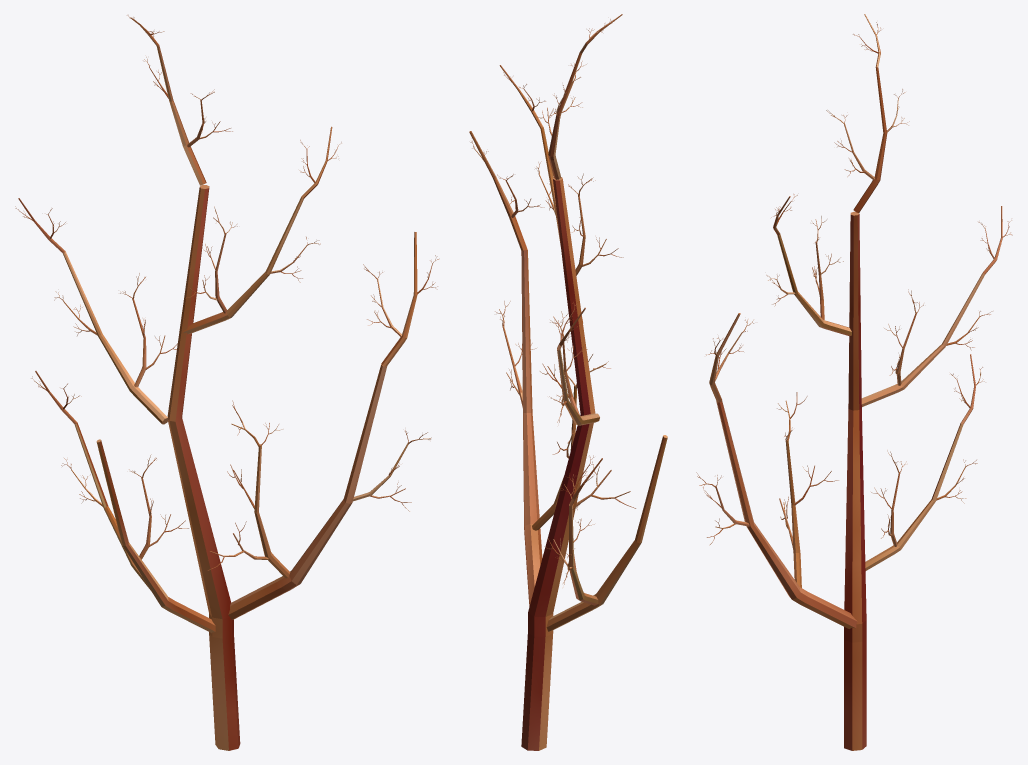
Rendered from tree1.glb.
3 renders of one model, left to right at view 1: azimuth 30°, elevation 25°; view 2: azimuth 150°, elevation 25°; view 3: azimuth 270°, elevation 25°, orthographic. The views are drawn at different scales.
Parts seen in each view (by area): view 1: Tree1; view 2: Tree1; view 3: Tree1.
Part boxes in pixels (left/top/right/bottom): Tree1: left=15, top=15, right=439, bottom=750; Tree1: left=469, top=14, right=667, bottom=750; Tree1: left=696, top=14, right=1012, bottom=750.
Bounding box in the file's own units: 1.52 × 4.01 × 1.67.
1 material, 1 textured.
